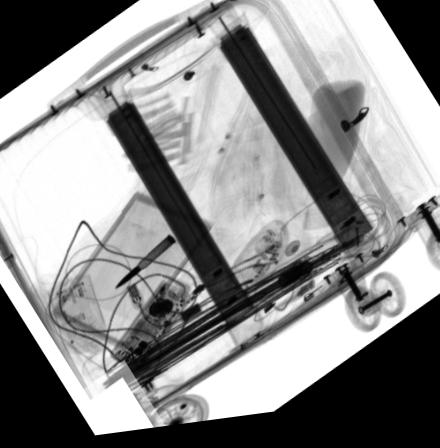Bullet: (111, 237, 175, 293)
